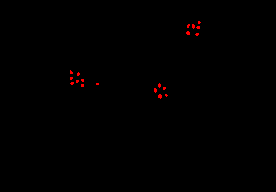Target: (158, 94, 162, 99), (186, 31, 190, 35), (192, 24, 195, 29), (158, 83, 161, 88), (154, 88, 157, 93), (187, 24, 190, 28), (196, 26, 200, 29), (195, 33, 199, 36), (70, 70, 73, 74), (77, 72, 80, 76), (70, 82, 74, 85), (198, 21, 201, 24), (70, 77, 73, 80), (81, 79, 84, 82), (76, 80, 79, 83), (81, 84, 84, 87), (163, 87, 166, 90), (165, 94, 168, 97), (96, 83, 99, 85)
